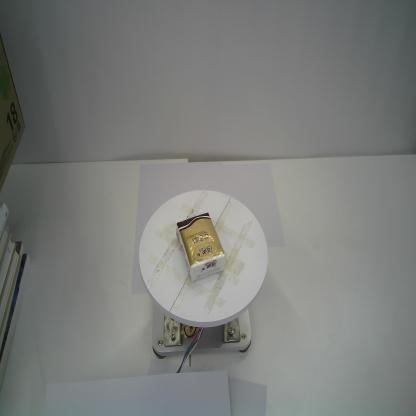Tissue: (176, 212, 226, 282)
